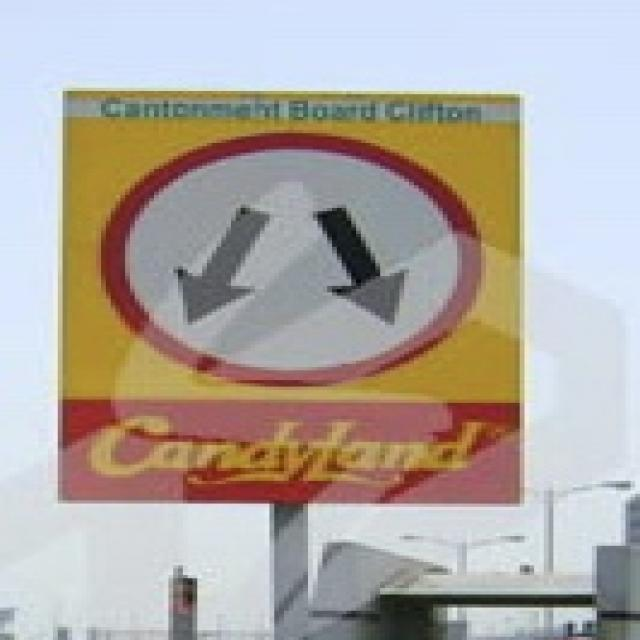pass either side: (97, 124, 483, 396)
